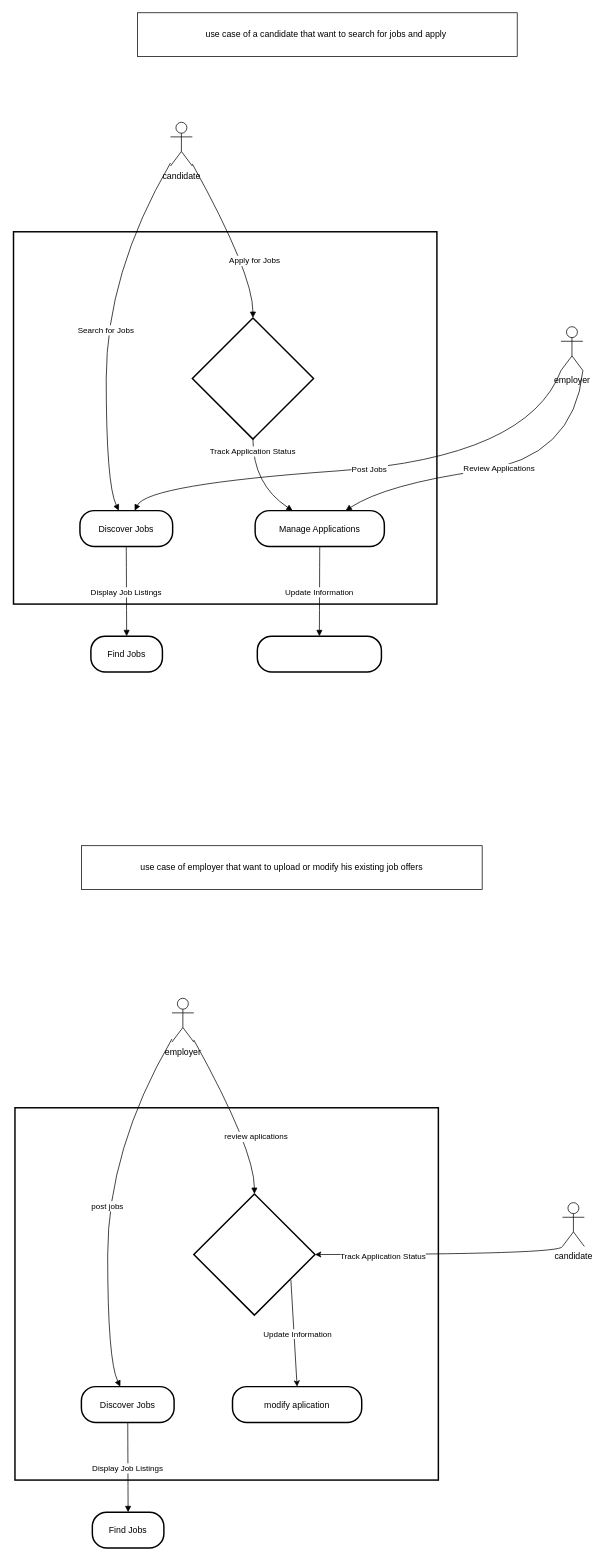
Some shapes in this 604 by 1561 pixel diagram are drawn without their labels. The shapes that lost their labels are listed below. From the top down, each one's centre as x and y in pixels, then its label:
At pixel 252 378: "Job Applications".
At pixel 319 653: "Modify Applications".
At pixel 254 1254: "manage aplications".
